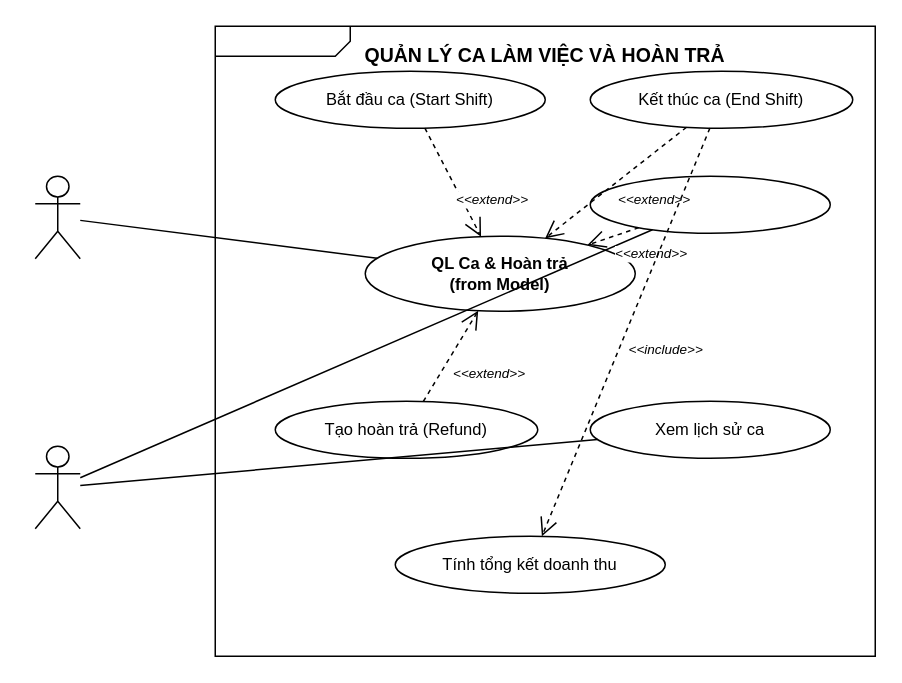
This 902x683 diagram has some shape labels left out. Each missing label, with the centre of its shape:
"Branch Manager" goes at point (57, 487).
"Cashier" goes at point (57, 217).
"Xem báo cáo ca" goes at point (709, 204).
